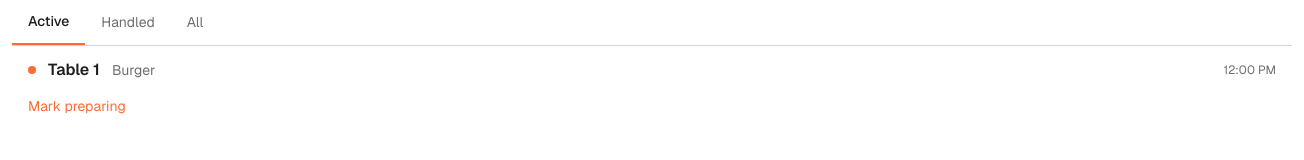
Scenario: OrderFeed › handleAdvance › INVALID_TRANSITION: keeps optimistic state (trusts Realtime to reconcile); shows error
Click the button "Mark preparing".
click(77, 110)  # box [12,96,142,124]
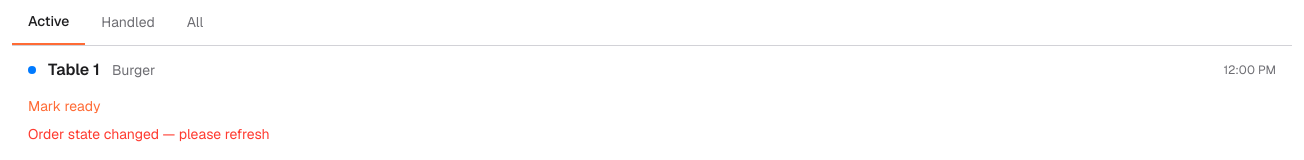
Check: the message reads "Order state changed — please refresh", box [28,125,270,143]
